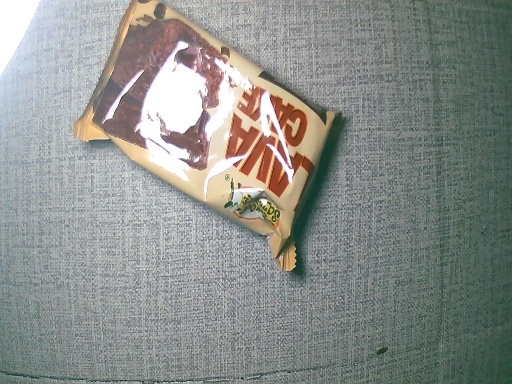plastic: (60, 1, 337, 287)
